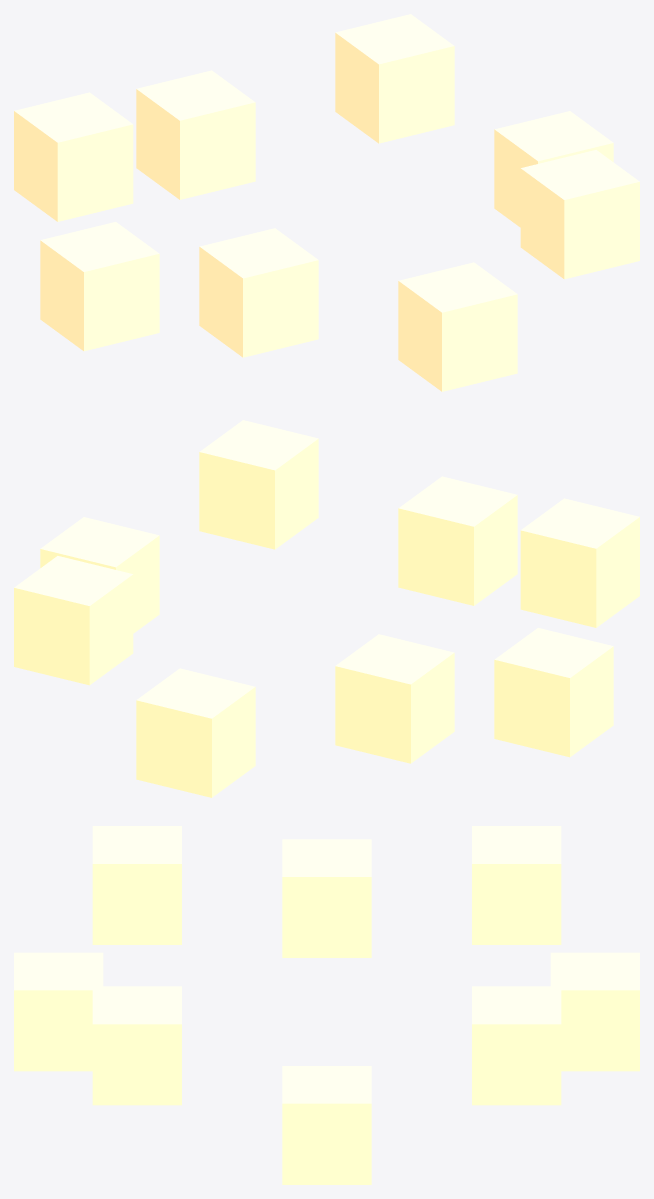
File: puff.glb
3 views of the same model, one above another, from view 1: azimuth 30°, elevation 25°; view 2: azimuth 150°, elevation 25°; view 3: azimuth 270°, elevation 25° (orthographic). The views are drawn at different scales.
Visible parts, largest first — view 1: Puff; view 2: Puff; view 3: Puff.
Part boxes in pixels (<box>): Puff: <box>14,14,639,391</box>; Puff: <box>14,420,639,797</box>; Puff: <box>14,826,639,1184</box>.
Size of the model in its own units: 0.98 by 0.22 by 0.98.
